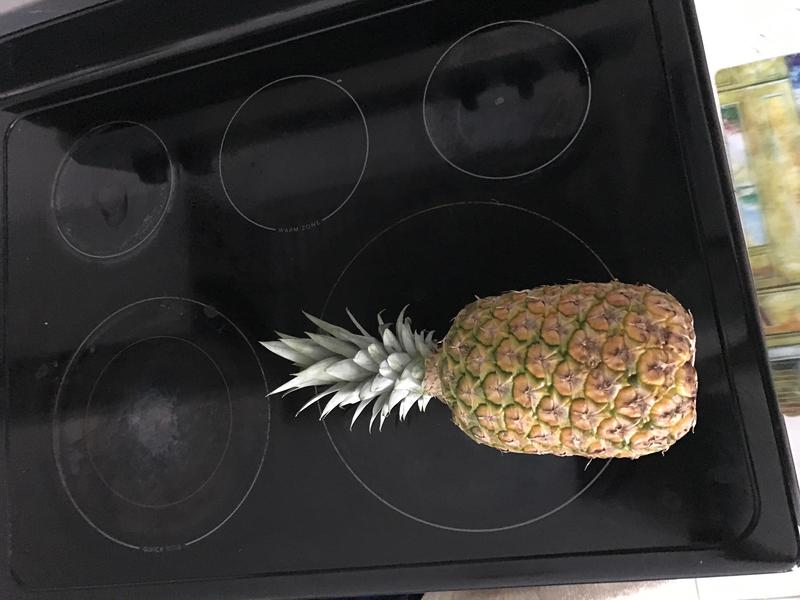pineapple: (241, 271, 717, 474)
